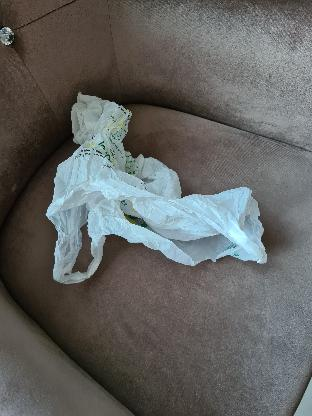Plastic Bag: (36, 82, 278, 288)
